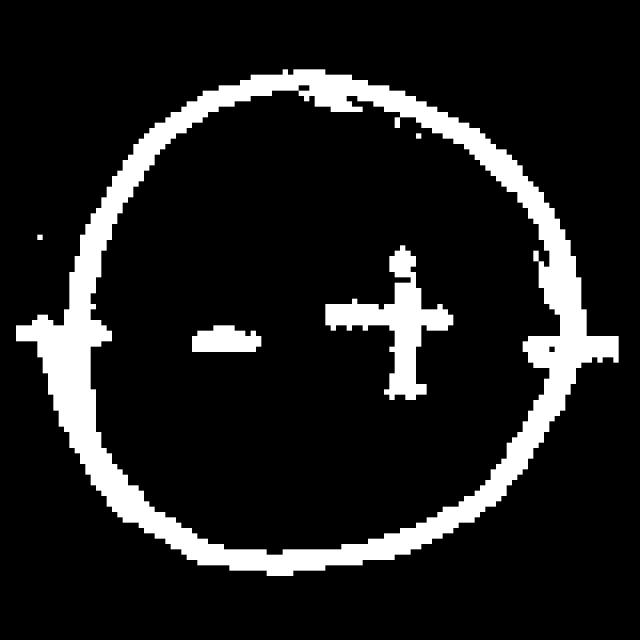voltage_source: (46, 58, 590, 597)
